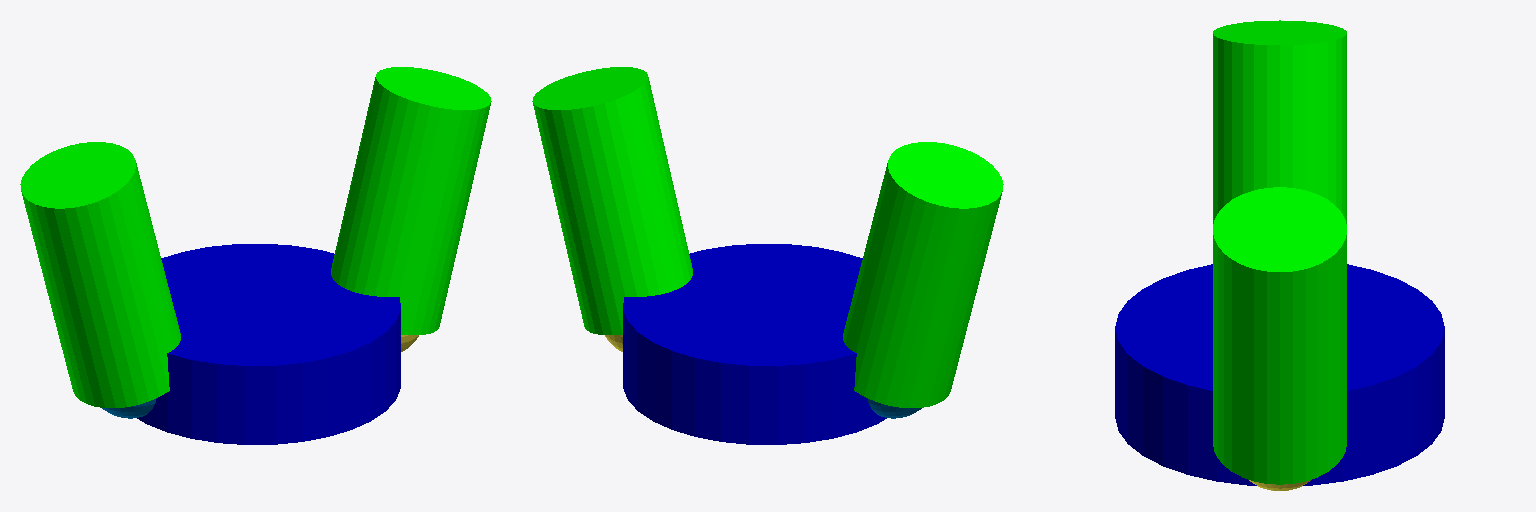
robot.urdf — gripper_2f_1j:
<?xml version='1.0' encoding='UTF-8'?>
<robot name="gripper_2f_1j">
  <link name="palm">
    <inertial>
      <origin xyz="0.0 0.0 0.0" rpy="0.0 -0.0 0.0"/>
      <mass value="1.0"/>
      <inertia ixx="1.0" ixy="0.0" ixz="0.0" iyy="1.0" iyz="0.0" izz="1.0"/>
    </inertial>
    <visual>
      <geometry>
        <cylinder radius="0.05" length="0.03"/>
      </geometry>
      <material name="blue"/>
      <origin xyz="0.0 0.0 0.0" rpy="0.0 -0.0 0.0"/>
    </visual>
    <collision>
      <geometry>
        <cylinder radius="0.05" length="0.03"/>
      </geometry>
      <origin xyz="0.0 0.0 0.0" rpy="0.0 0.0 0.0"/>
    </collision>
  </link>
  <link name="f11">
    <inertial>
      <origin xyz="0.0 0.0 0.0" rpy="0.0 -0.0 0.0"/>
      <mass value="1.0"/>
      <inertia ixx="1.0" ixy="0.0" ixz="0.0" iyy="1.0" iyz="0.0" izz="1.0"/>
    </inertial>
    <visual>
      <geometry>
        <cylinder radius="0.02041945892504144" length="0.08328211028707128"/>
      </geometry>
      <material name="green"/>
      <origin xyz="0.0 0.0 0.04164105514353564" rpy="0.0 -0.0 0.0"/>
    </visual>
    <collision>
      <geometry>
        <cylinder radius="0.02041945892504144" length="0.08328211028707128"/>
      </geometry>
      <origin xyz="0.0 0.0 0.05" rpy="0.0 0.0 0.0"/>
    </collision>
  </link>
  <link name="f21">
    <inertial>
      <origin xyz="0.0 0.0 0.0" rpy="0.0 -0.0 0.0"/>
      <mass value="1.0"/>
      <inertia ixx="1.0" ixy="0.0" ixz="0.0" iyy="1.0" iyz="0.0" izz="1.0"/>
    </inertial>
    <visual>
      <geometry>
        <cylinder radius="0.02041945892504144" length="0.08328211028707128"/>
      </geometry>
      <material name="green"/>
      <origin xyz="0.0 0.0 0.04164105514353564" rpy="0.0 -0.0 0.0"/>
    </visual>
    <collision>
      <geometry>
        <cylinder radius="0.02041945892504144" length="0.08328211028707128"/>
      </geometry>
      <origin xyz="0.0 0.0 0.05" rpy="0.0 0.0 0.0"/>
    </collision>
  </link>
  <link name="f11_base">
    <inertial>
      <origin xyz="0.0 0.0 0.0" rpy="0.0 -0.0 0.0"/>
      <mass value="1.0"/>
      <inertia ixx="1.0" ixy="0.0" ixz="0.0" iyy="1.0" iyz="0.0" izz="1.0"/>
    </inertial>
    <visual>
      <geometry>
        <sphere radius="0.015"/>
      </geometry>
      <origin xyz="0.0 0.0 0.0" rpy="0.0 -0.0 0.0"/>
    </visual>
  </link>
  <link name="f21_base">
    <inertial>
      <origin xyz="0.0 0.0 0.0" rpy="0.0 -0.0 0.0"/>
      <mass value="1.0"/>
      <inertia ixx="1.0" ixy="0.0" ixz="0.0" iyy="1.0" iyz="0.0" izz="1.0"/>
    </inertial>
    <visual>
      <geometry>
        <sphere radius="0.015"/>
      </geometry>
      <origin xyz="0.0 0.0 0.0" rpy="0.0 -0.0 0.0"/>
    </visual>
  </link>
  <joint name="f11_joint" type="revolute">
    <dynamics damping="100.0" friction="1.0"/>
    <limit effort="30.0" velocity="2.0" lower="-0.6" upper="0.25"/>
    <parent link="f11_base"/>
    <child link="f11"/>
    <axis xyz="0. 1. 0."/>
    <origin xyz="0.0 0.0 0.0" rpy="0.0 0.25 0.0"/>
  </joint>
  <joint name="f21_joint" type="revolute">
    <dynamics damping="100.0" friction="1.0"/>
    <limit effort="30.0" velocity="2.0" lower="-0.6" upper="0.25"/>
    <parent link="f21_base"/>
    <child link="f21"/>
    <axis xyz=" 0. -1.  0."/>
    <origin xyz="0.0 0.0 0.0" rpy="0.0 -0.25 0.0"/>
  </joint>
  <joint name="f11_base_joint" type="fixed">
    <parent link="palm"/>
    <child link="f11_base"/>
    <axis xyz="1. 0. 0."/>
    <origin xyz="0.05 0.0 0.0" rpy="0.0 0.0 0.0"/>
  </joint>
  <joint name="f21_base_joint" type="fixed">
    <parent link="palm"/>
    <child link="f21_base"/>
    <axis xyz="1. 0. 0."/>
    <origin xyz="-0.05 -0.0 0.0" rpy="0.0 0.0 0.0"/>
  </joint>
  <material name="blue">
    <color rgba="0.  0.  0.8 1. "/>
  </material>
  <material name="green">
    <color rgba="0. 1. 0. 1."/>
  </material>
</robot>

--- Render facts (derived) ---
3 views of the same robot in one strip: view 1: azimuth 30°, elevation 25°; view 2: azimuth 150°, elevation 25°; view 3: azimuth 270°, elevation 25° (orthographic).
Model gripper_2f_1j with 5 links and 4 joints (2 revolute, 2 fixed), rooted at palm, posed all joints at 0.
Visible links, largest first — view 1: palm, f21, f11; view 2: palm, f21, f11; view 3: f11, palm, f21.
Link boxes in pixels (x1,y1,x2,y2): palm: (137, 244, 400, 444); f21: (20, 142, 180, 407); f11: (331, 67, 491, 334); palm: (623, 244, 886, 444); f21: (843, 142, 1003, 407); f11: (532, 67, 692, 334); f11: (1213, 187, 1346, 484); palm: (1115, 264, 1444, 485); f21: (1213, 20, 1346, 223).
Size in the robot's own frame: 0.1808 by 0.1 by 0.1007 metres.
Geometry: primitives only (box / cylinder / sphere), no mesh files.